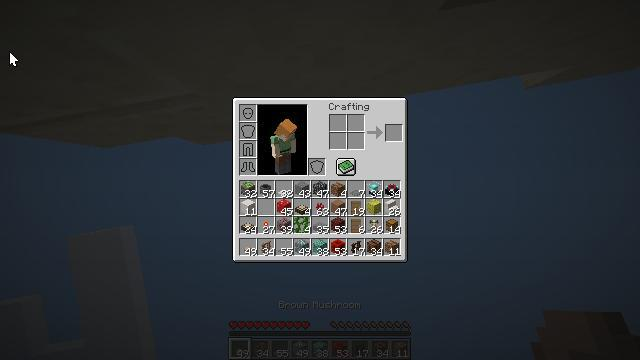cursor: (51, 9, 67, 19)
